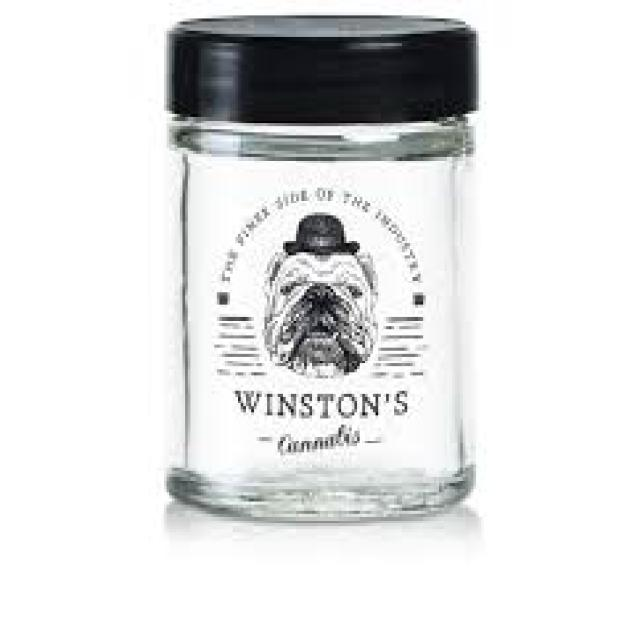glass: (164, 111, 473, 517)
metal: (167, 9, 474, 120)
